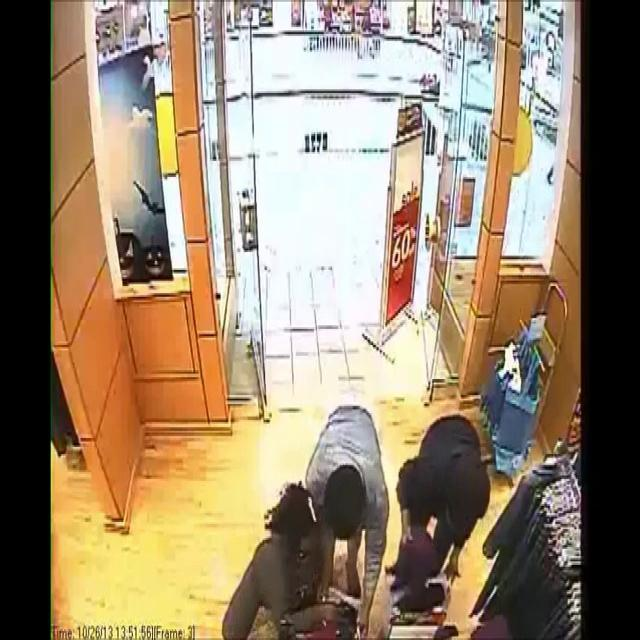Product: (402, 526, 438, 596)
normal: (227, 476, 333, 640), (295, 388, 393, 540)
shoplifting: (387, 418, 500, 640)
